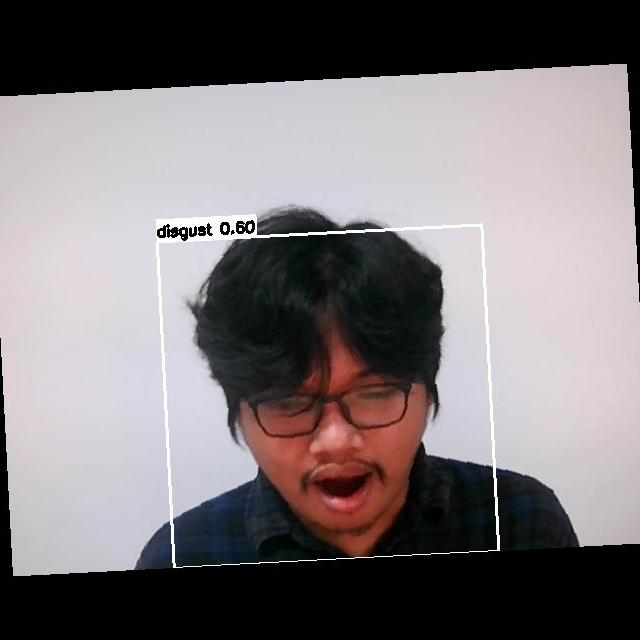Surprised: (235, 353, 420, 523)
